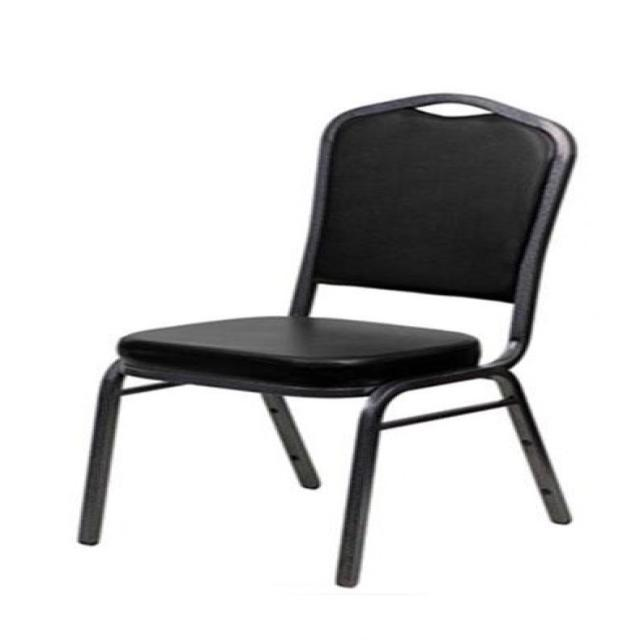chair: (72, 91, 584, 592)
